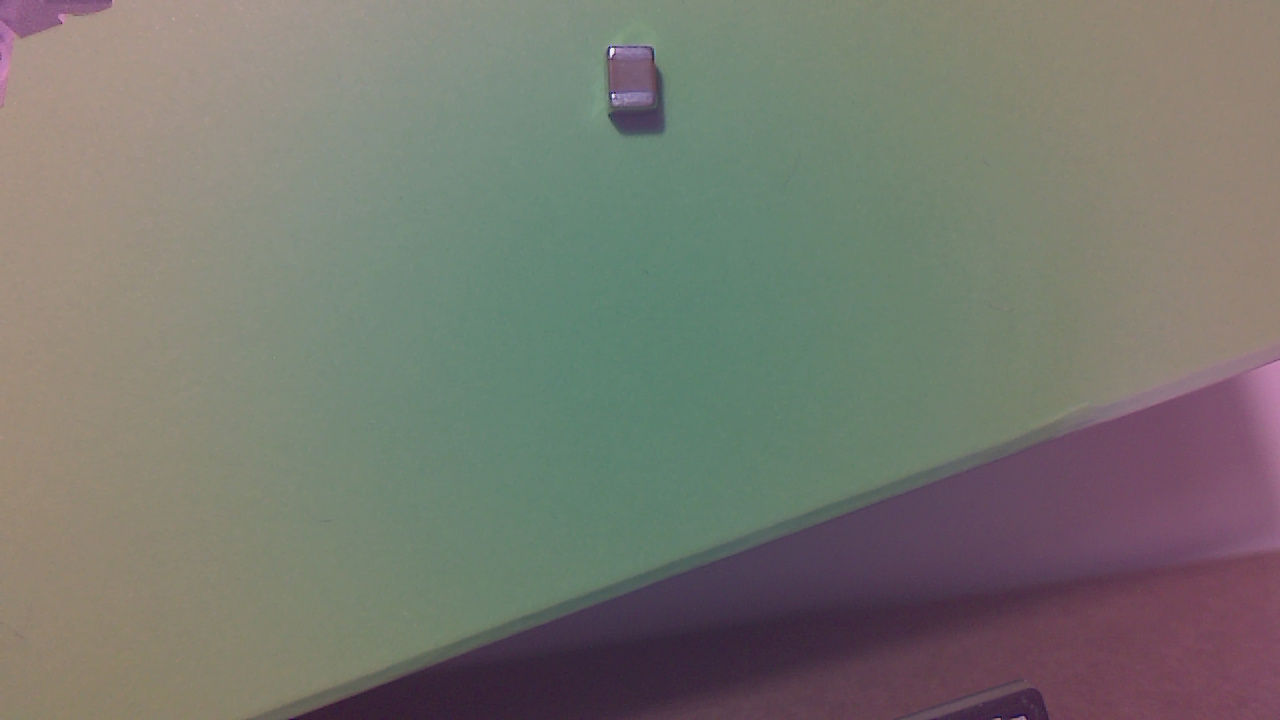Condensator: (608, 48, 666, 122)
